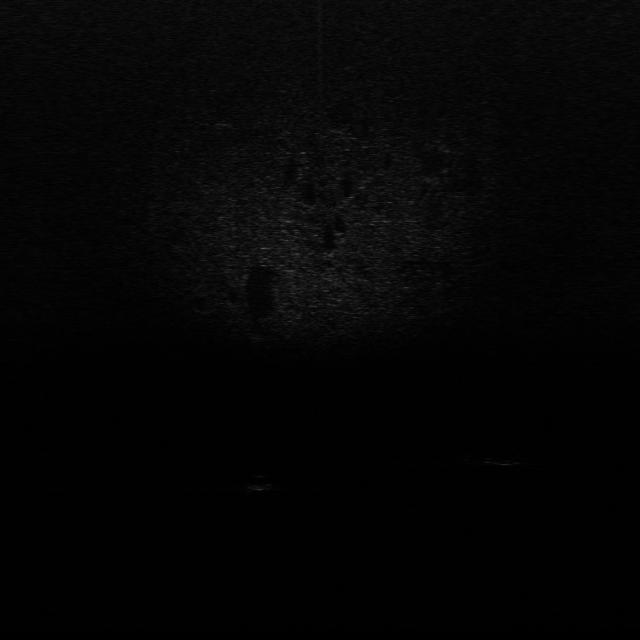ball: (247, 472, 277, 493)
human body: (466, 448, 558, 468)
